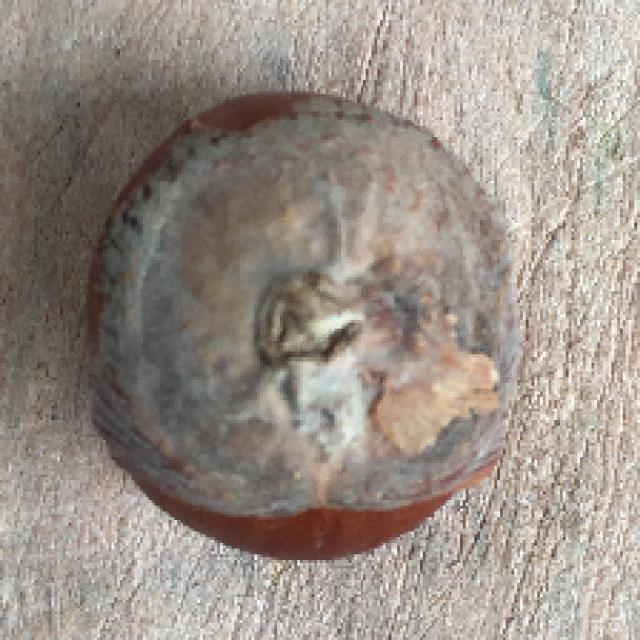qualityHazelnut: (73, 80, 528, 568)
